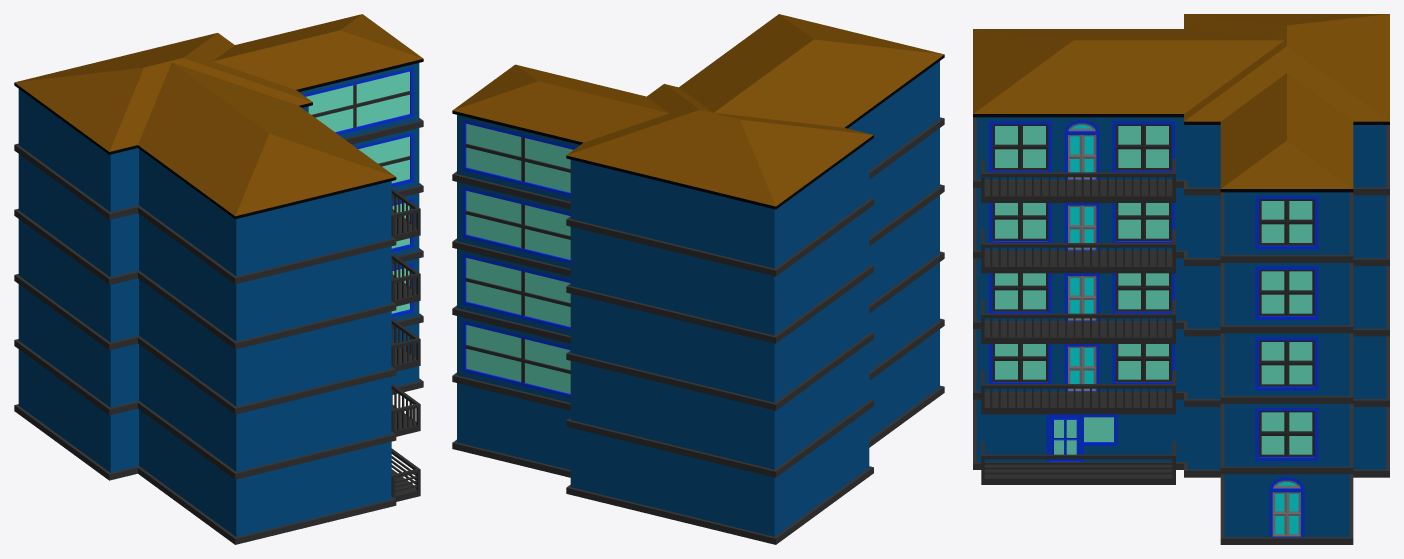
The model's file is building2.fbx.
The picture shows the model from 3 angles, left to right: view 1: azimuth 30°, elevation 25°; view 2: azimuth 150°, elevation 25°; view 3: azimuth 270°, elevation 25°; orthographic projection. The views are drawn at different scales.
Parts seen in each view (by area): view 1: building2; view 2: building2; view 3: building2.
Part boxes in pixels (box(x1,y1,x2,y2)): building2: box(14, 14, 423, 544); building2: box(452, 14, 944, 544); building2: box(973, 14, 1389, 544).
Size of the model in its own units: 1171 by 1210 by 1178.
